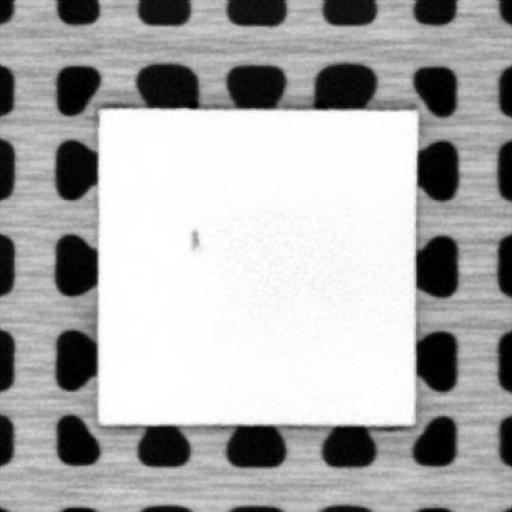DIE_INK: (184, 223, 202, 253)
